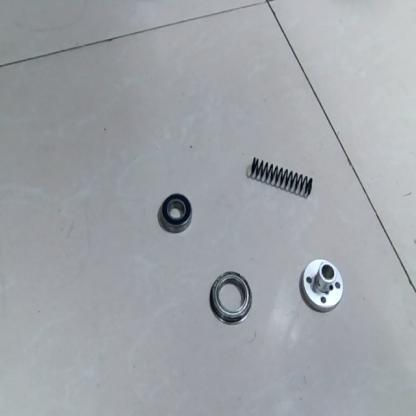FOD: (248, 148, 321, 202), (208, 265, 254, 328), (299, 254, 346, 315), (157, 192, 195, 236)
